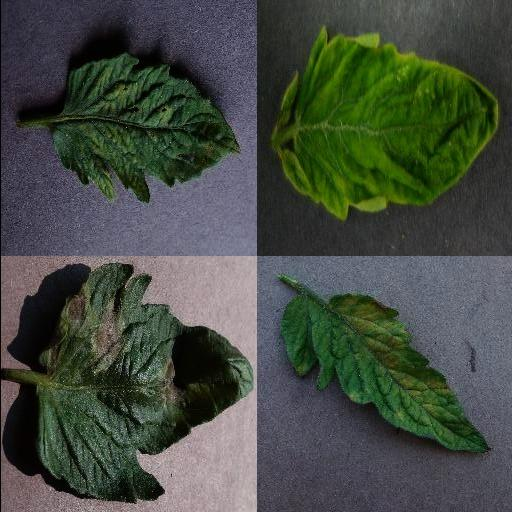Late Blight: (34, 261, 254, 505)
Leaf Mold: (280, 295, 490, 452)
Mosaic Virus: (47, 50, 241, 206)
Yellow Leaf Curl Virus: (274, 27, 500, 222)
